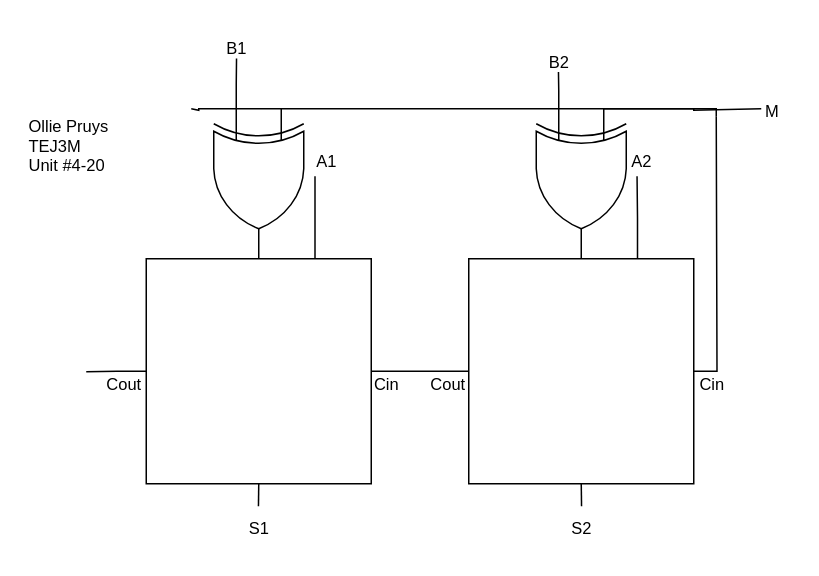
Some shapes in this 819 by 576 pixel diagram are drawn without their labels. Here are the shapes that lost their labels. From the top down, the centre of each, then its label:
At point 258,370: "Fullf Adder".
At point 580,370: "Full Adder".
